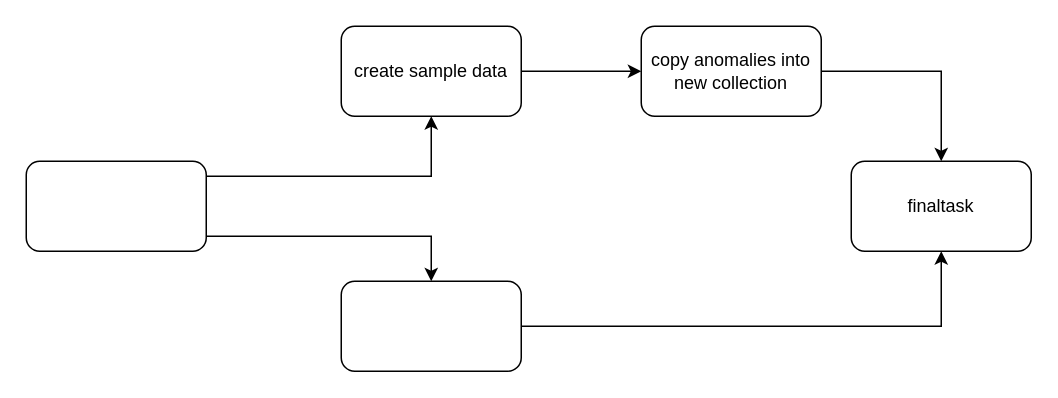
The diagram is 1058 pixels wide and 398 high, and some of its shapes have lost their labels. Each missing label, with the centre of its shape:
insert airflow logs into mongodb: the point at 430,325
start: the point at 115,205
